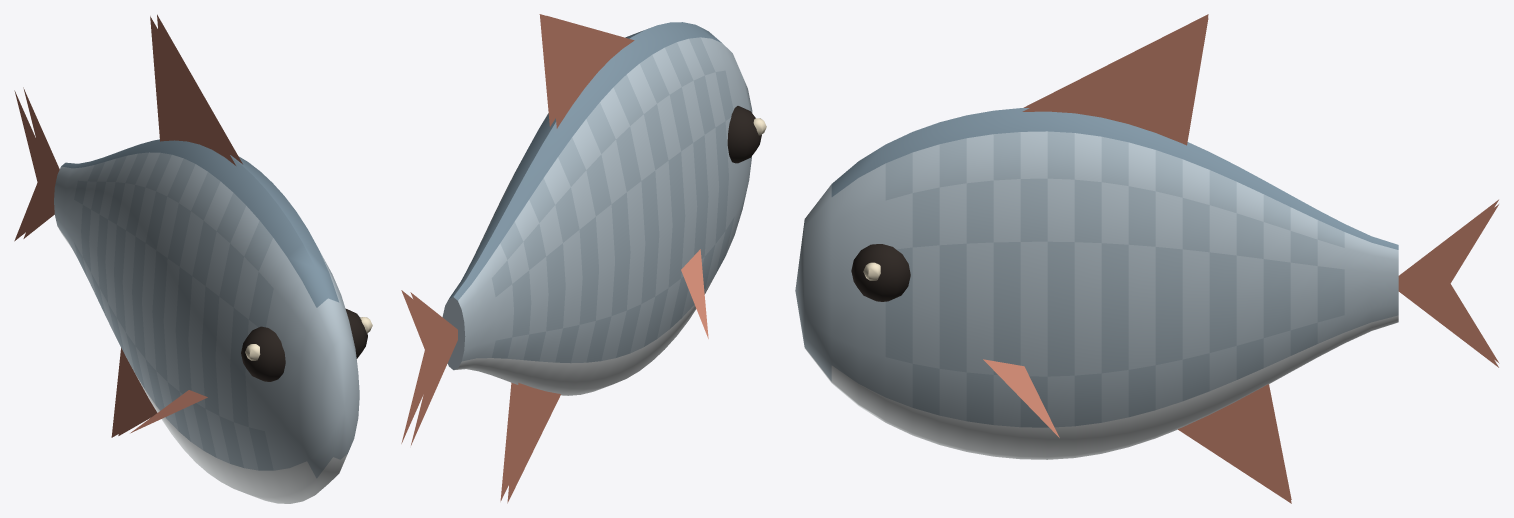
The model's file is Fish_SilverBream.fbx.
3 renders of one model, left to right at view 1: azimuth 30°, elevation 25°; view 2: azimuth 150°, elevation 25°; view 3: azimuth 270°, elevation 25°, orthographic. The views are drawn at different scales.
Visible parts, largest first — view 1: Fish_SilverBream.001; view 2: Fish_SilverBream.001; view 3: Fish_SilverBream.001.
Boxes of the visible parts, x1,y1,x2,y2 form: Fish_SilverBream.001: (14,14,372,503); Fish_SilverBream.001: (401,14,766,503); Fish_SilverBream.001: (795,14,1499,503).
Size of the model in its own units: 0.1648 by 0.3795 by 0.498.
